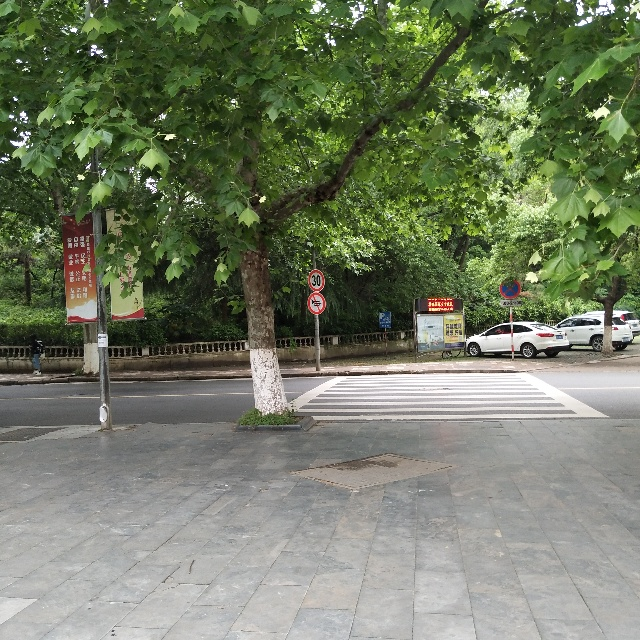nohonk: (305, 288, 328, 314)
stop: (494, 274, 525, 306)
